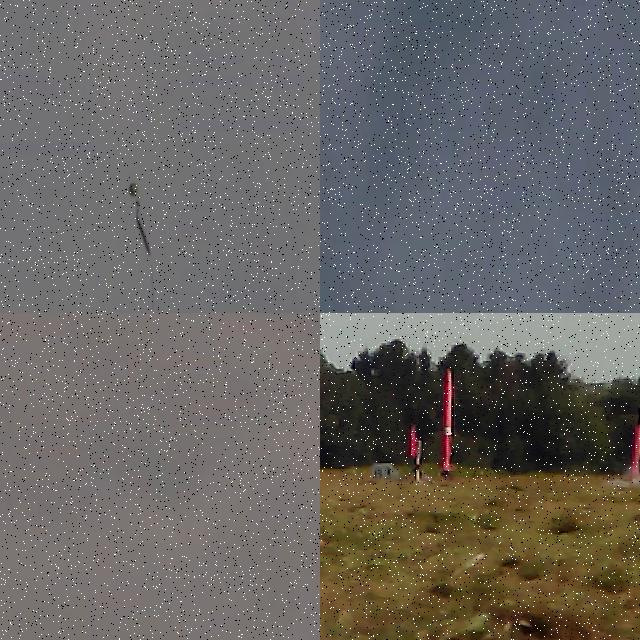Rocket: (441, 368, 453, 472), (631, 421, 640, 478), (409, 422, 420, 457)
